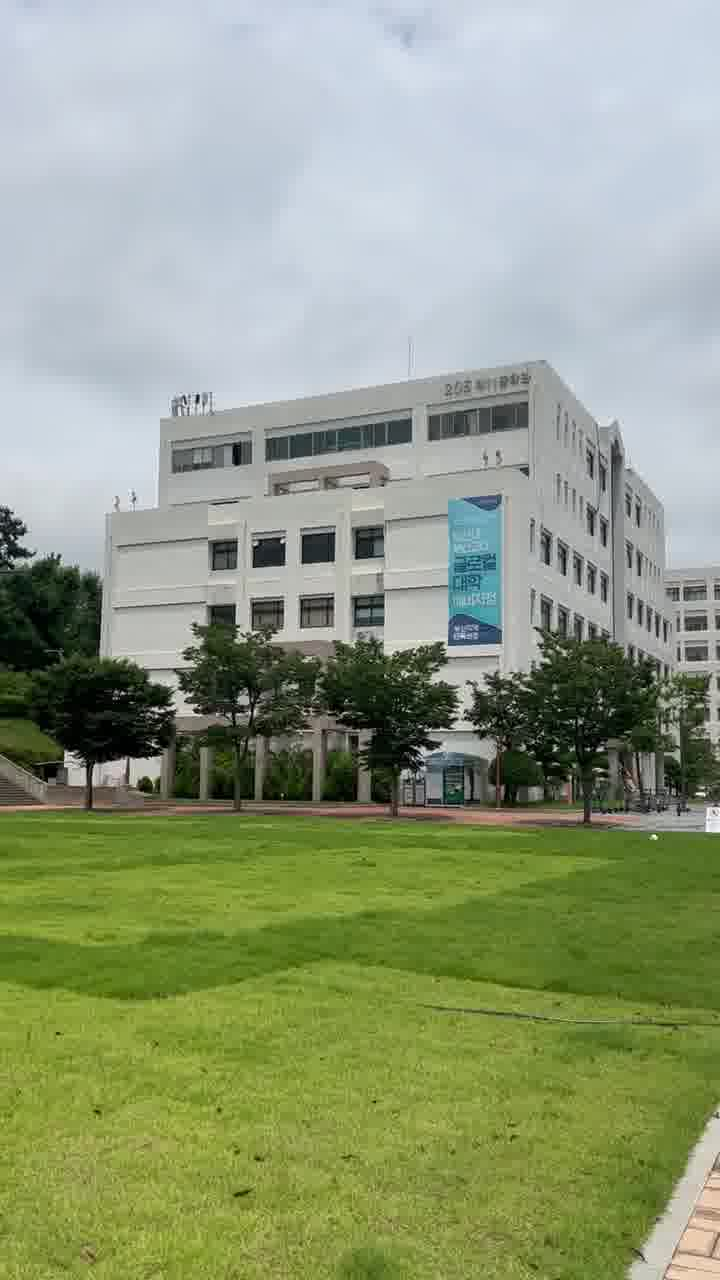low: (98, 322, 672, 636)
